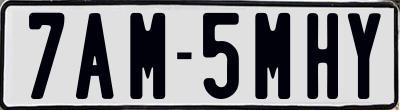5: (202, 12, 241, 100)
7: (29, 10, 64, 99)
A: (76, 12, 114, 102)
H: (304, 12, 341, 104)
M: (254, 10, 291, 99), (128, 13, 163, 104)
Y: (347, 11, 383, 102)
